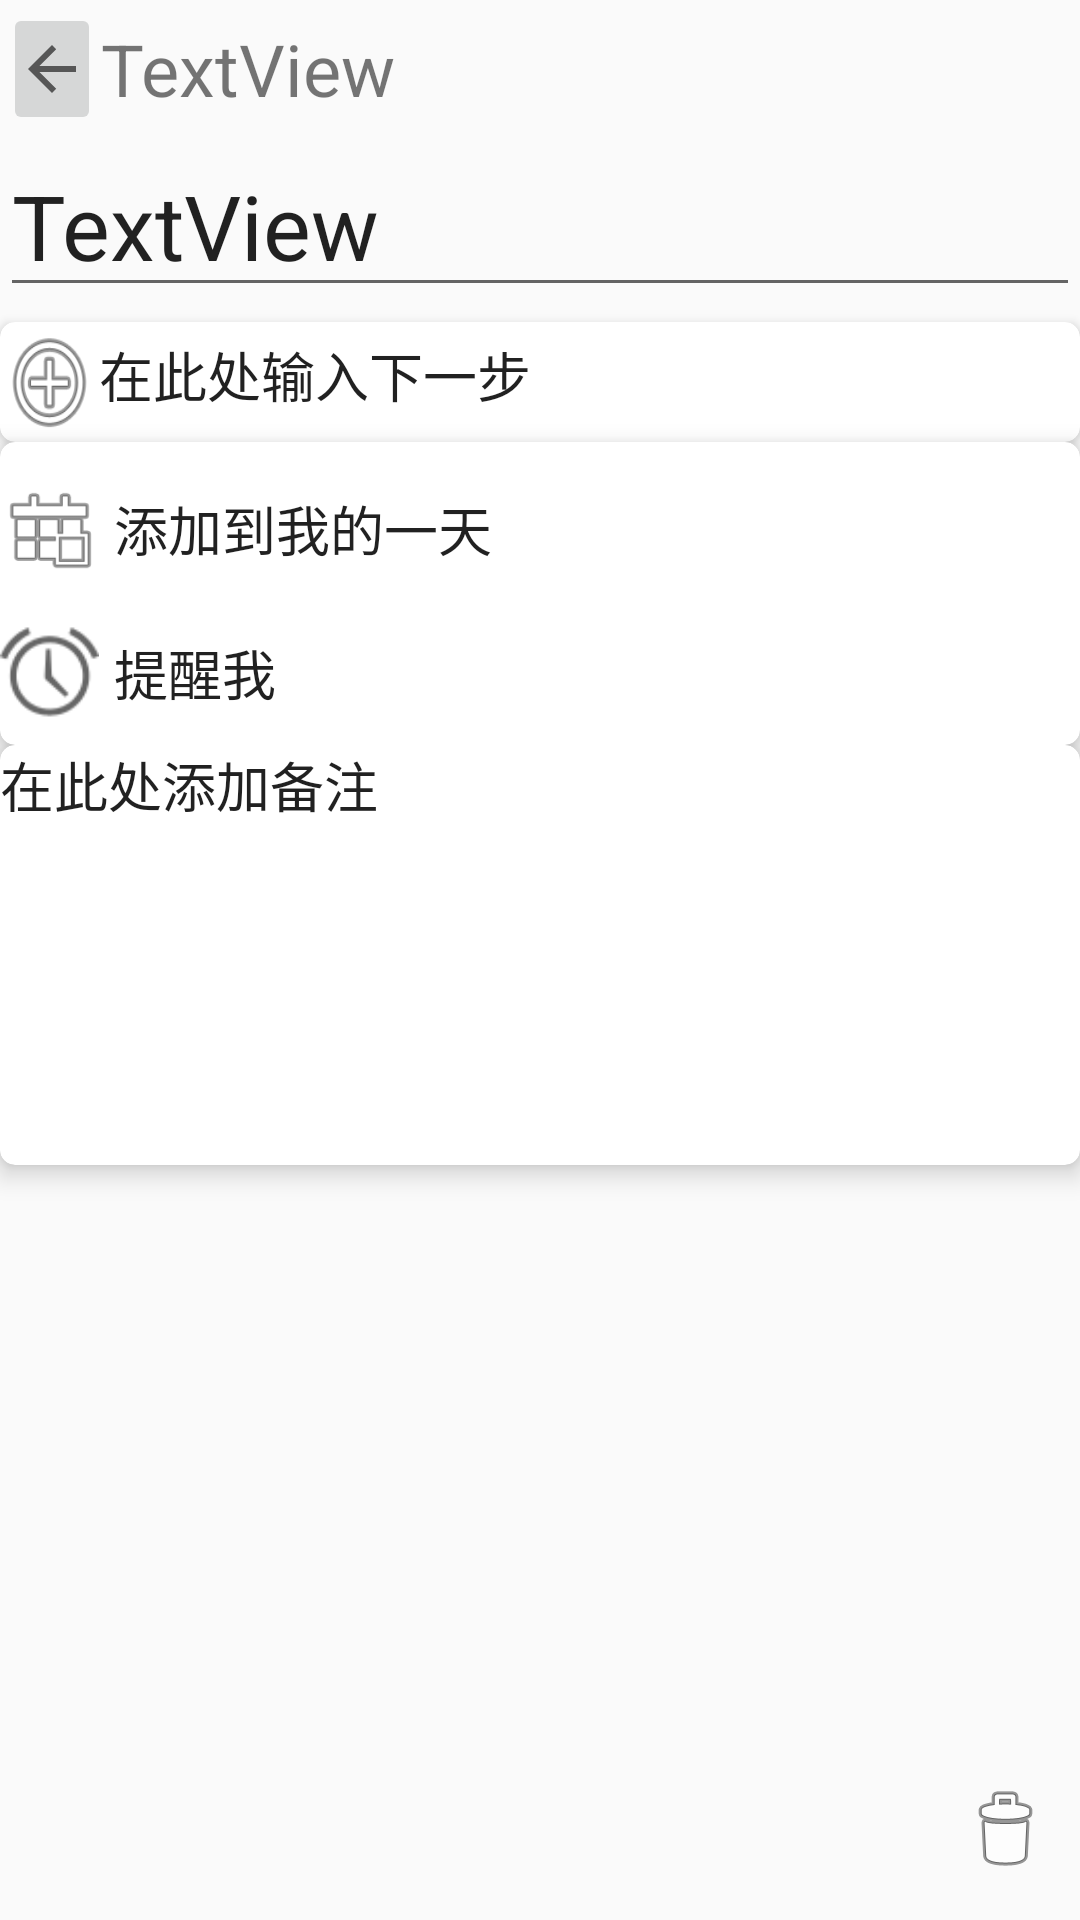

Screen size 1080x1920. Icon name, then its center in pixels as (x=x, y=y):
add: (x=43, y=379)
delete: (x=1005, y=1828)
lock idle alarm: (x=49, y=672)
today: (x=50, y=530)
